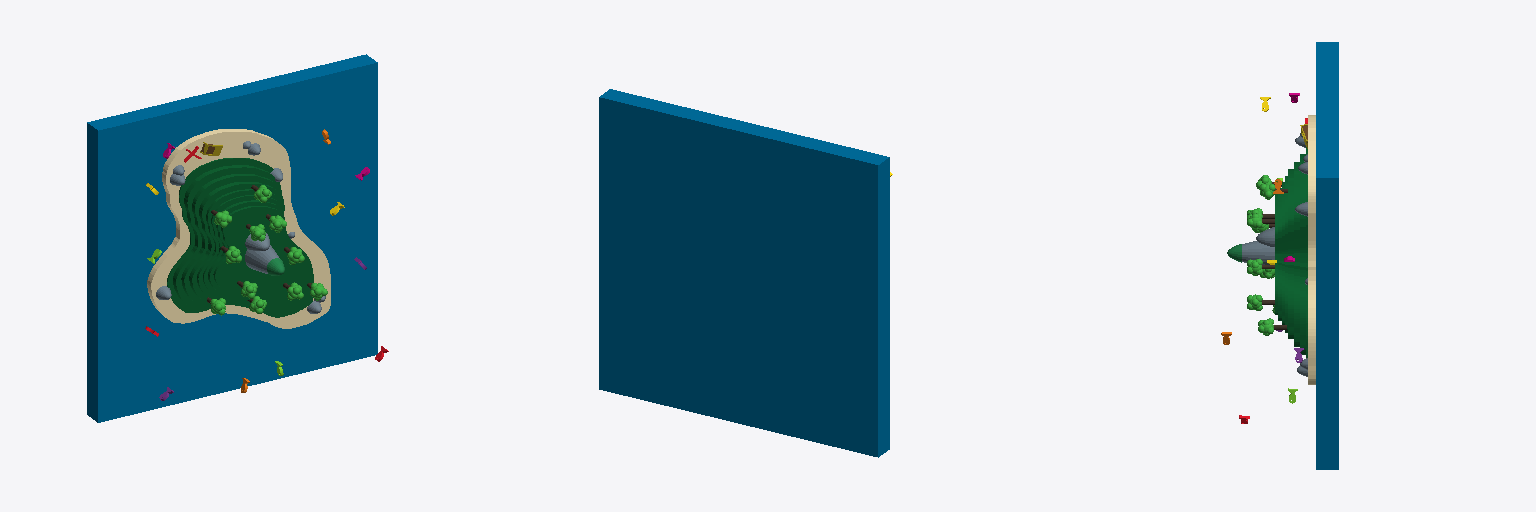
File: tinker.obj
3 views of the same model, side by side, from view 1: azimuth 30°, elevation 25°; view 2: azimuth 150°, elevation 25°; view 3: azimuth 270°, elevation 25° (orthographic).
Parts seen in each view (by area): view 1: obj_0; view 2: obj_0; view 3: obj_0.
Part boxes in pixels (x1,y1,x2,y2): obj_0: (87,54,388,422); obj_0: (599,89,892,457); obj_0: (1221,42,1338,469).
Bounding box in the file's own units: 200 × 200 × 72.61.